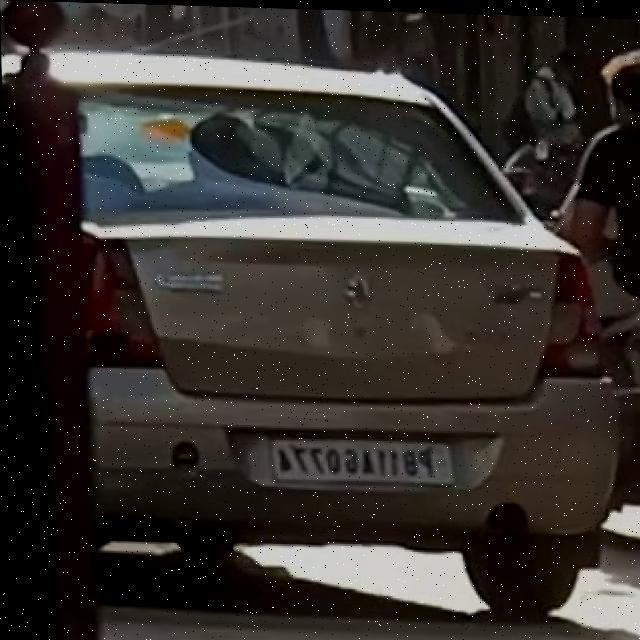plate: (267, 432, 455, 485)
